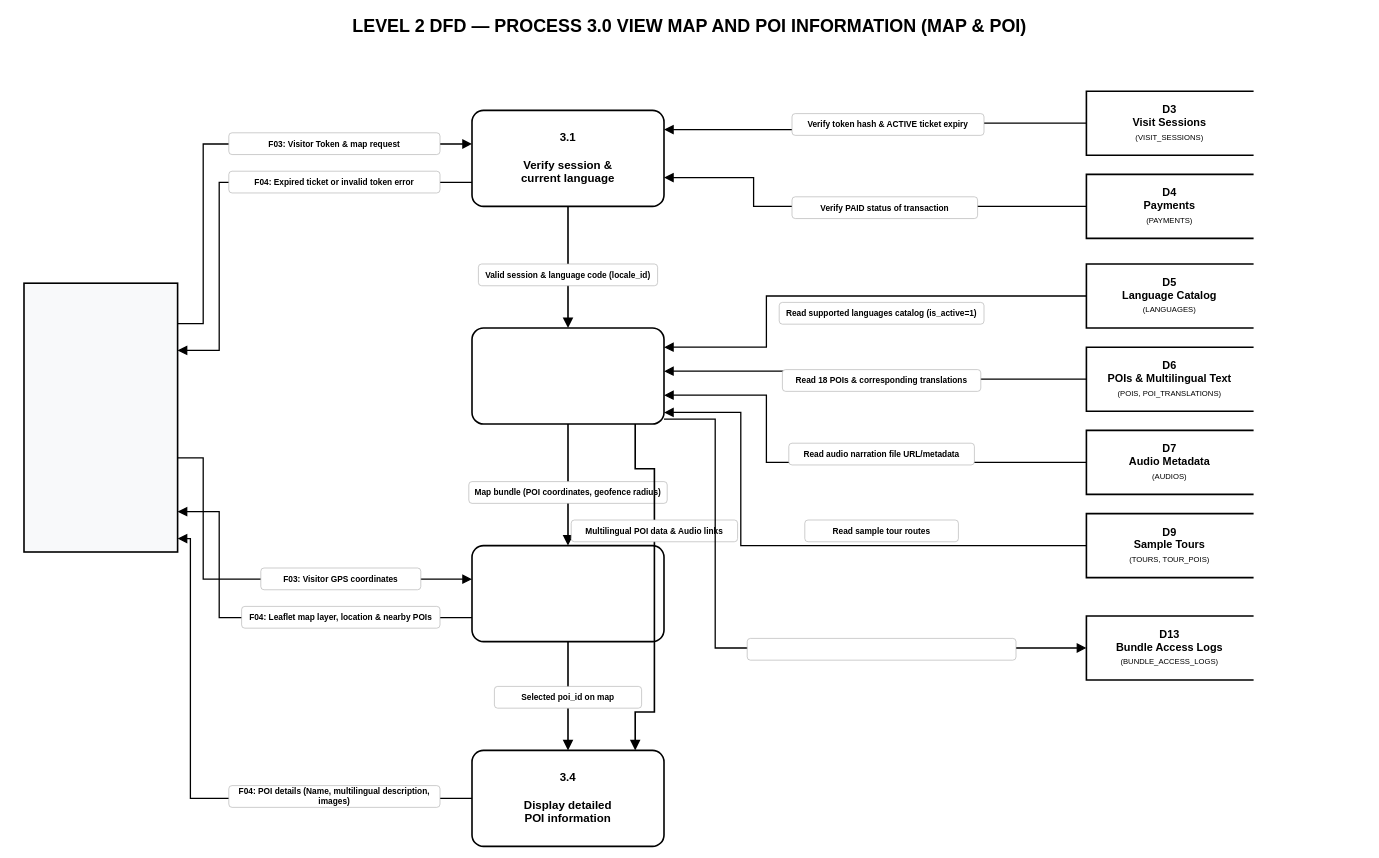
Some shapes in this 1379 by 858 pixel diagram are drawn without their labels. Each missing label, with the centre of its shape:
"3.2 Serve offline bundle & log access" goes at (568,376).
"3.3 Display map, location & nearby POIs" goes at (568,593).
"E1 Visitor (View map, GPS location & POI info)" goes at (100,417).
"Log bundle access (session_id, locale_id, bundle_version)" goes at (881,649).
